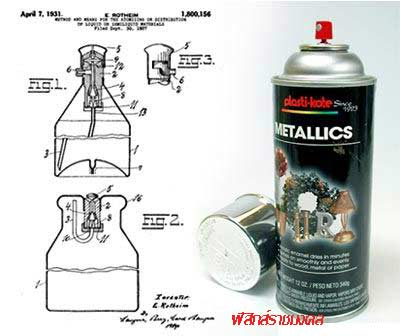Aerosol_cans: (269, 19, 380, 323)
